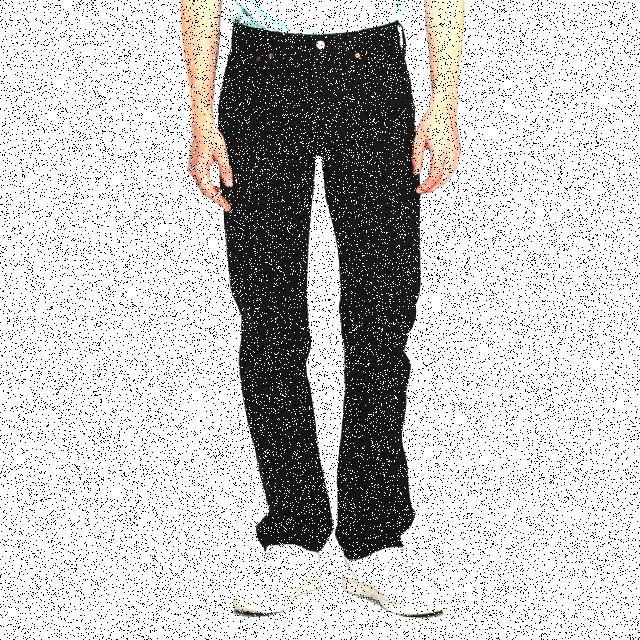Blouse_deep: (185, 14, 468, 551)
